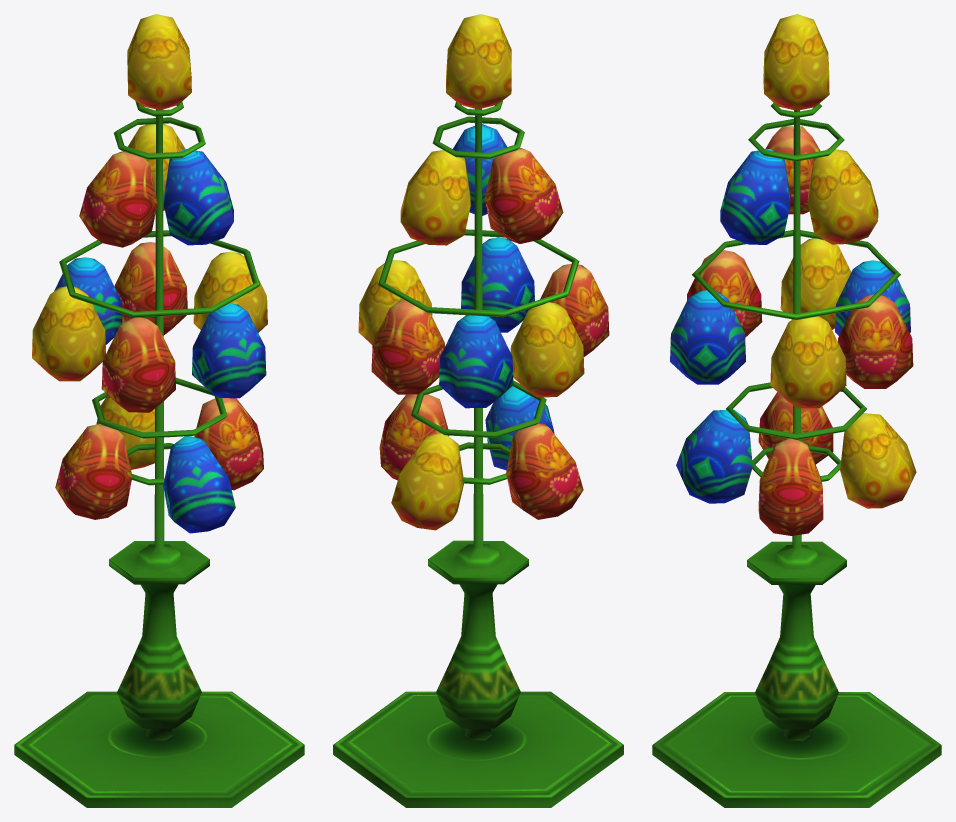
Rendered from Egg_Tree_01.FBX.
3 renders of one model, left to right at view 1: azimuth 30°, elevation 25°; view 2: azimuth 150°, elevation 25°; view 3: azimuth 270°, elevation 25°, orthographic.
Visible parts, largest first — view 1: Egg_Tree_01; view 2: Egg_Tree_01; view 3: Egg_Tree_01.
Boxes of the visible parts, x1,y1,x2,y2 form: Egg_Tree_01: [14, 14, 304, 807]; Egg_Tree_01: [333, 14, 623, 807]; Egg_Tree_01: [652, 14, 941, 807].
Size of the model in its own units: 65.36 by 212 by 75.31.
